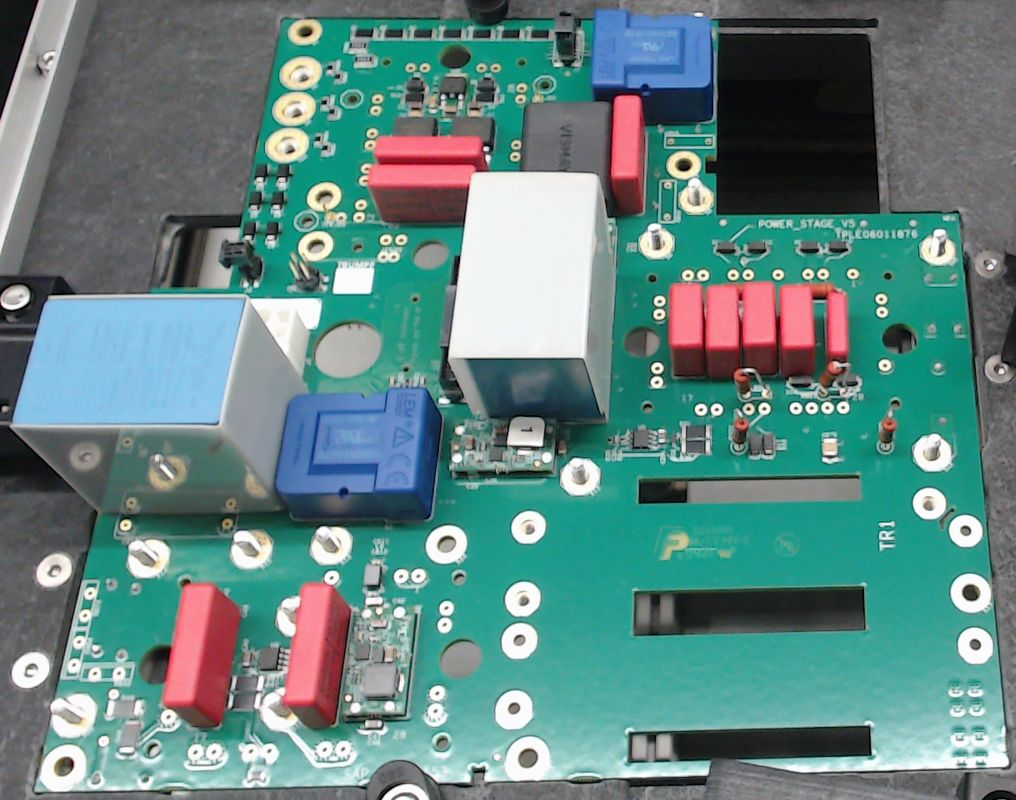comp1: (277, 388, 443, 519), (592, 9, 713, 123)
comp2: (162, 583, 242, 729), (286, 584, 354, 728), (367, 165, 474, 221), (609, 96, 646, 214), (667, 280, 706, 376), (777, 284, 815, 377), (705, 283, 741, 377), (742, 279, 774, 374), (374, 136, 484, 162), (825, 291, 851, 369)
comp3: (520, 100, 611, 176)
comp4: (6, 295, 311, 509), (448, 172, 611, 420)
